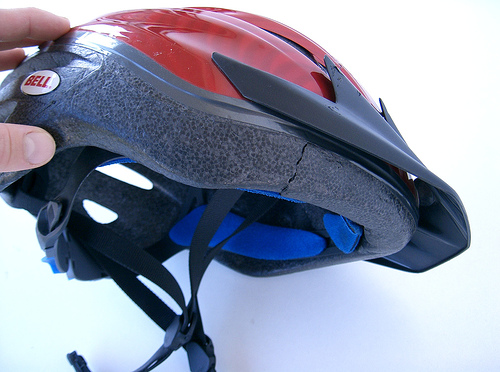helmet: (25, 16, 470, 284)
